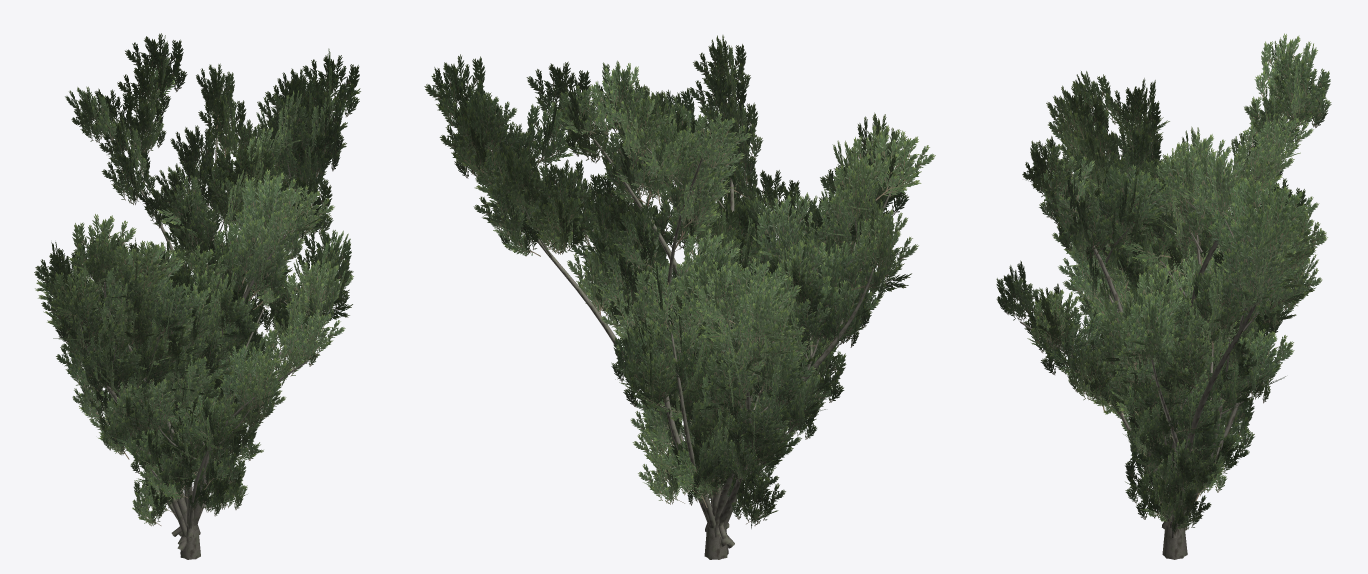
The model's file is wax_myrtle.glb.
The picture shows the model from 3 angles, left to right: view 1: azimuth 30°, elevation 25°; view 2: azimuth 150°, elevation 25°; view 3: azimuth 270°, elevation 25°; orthographic projection. The views are drawn at different scales.
Visible parts, largest first — view 1: waxmyrtle_tall_lod0, waxmyrtle_bushy_lod0; view 2: waxmyrtle_tall_lod0, waxmyrtle_bushy_lod0; view 3: waxmyrtle_tall_lod0, waxmyrtle_bushy_lod0.
Boxes of the visible parts, left/top/right/bottom form: waxmyrtle_tall_lod0: left=50, top=33, right=360, bottom=559; waxmyrtle_bushy_lod0: left=34, top=228, right=353, bottom=559; waxmyrtle_tall_lod0: left=424, top=35, right=935, bottom=559; waxmyrtle_bushy_lod0: left=564, top=166, right=852, bottom=559; waxmyrtle_tall_lod0: left=1022, top=33, right=1331, bottom=558; waxmyrtle_bushy_lod0: left=996, top=178, right=1306, bottom=559.
Size of what is drawn, in the model's own units: 5.81 by 6.66 by 4.22.
Materials: 2 (2 with a texture image).
